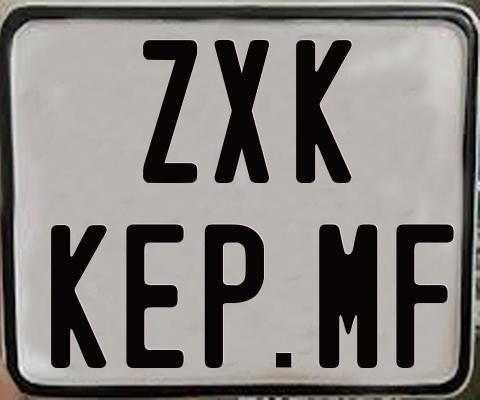E: (124, 222, 183, 372)
F: (394, 221, 455, 369)
K: (49, 222, 111, 365), (296, 38, 356, 181)
M: (318, 222, 379, 368)
P: (203, 223, 266, 369)
X: (214, 40, 271, 189)
Z: (143, 39, 203, 187)
